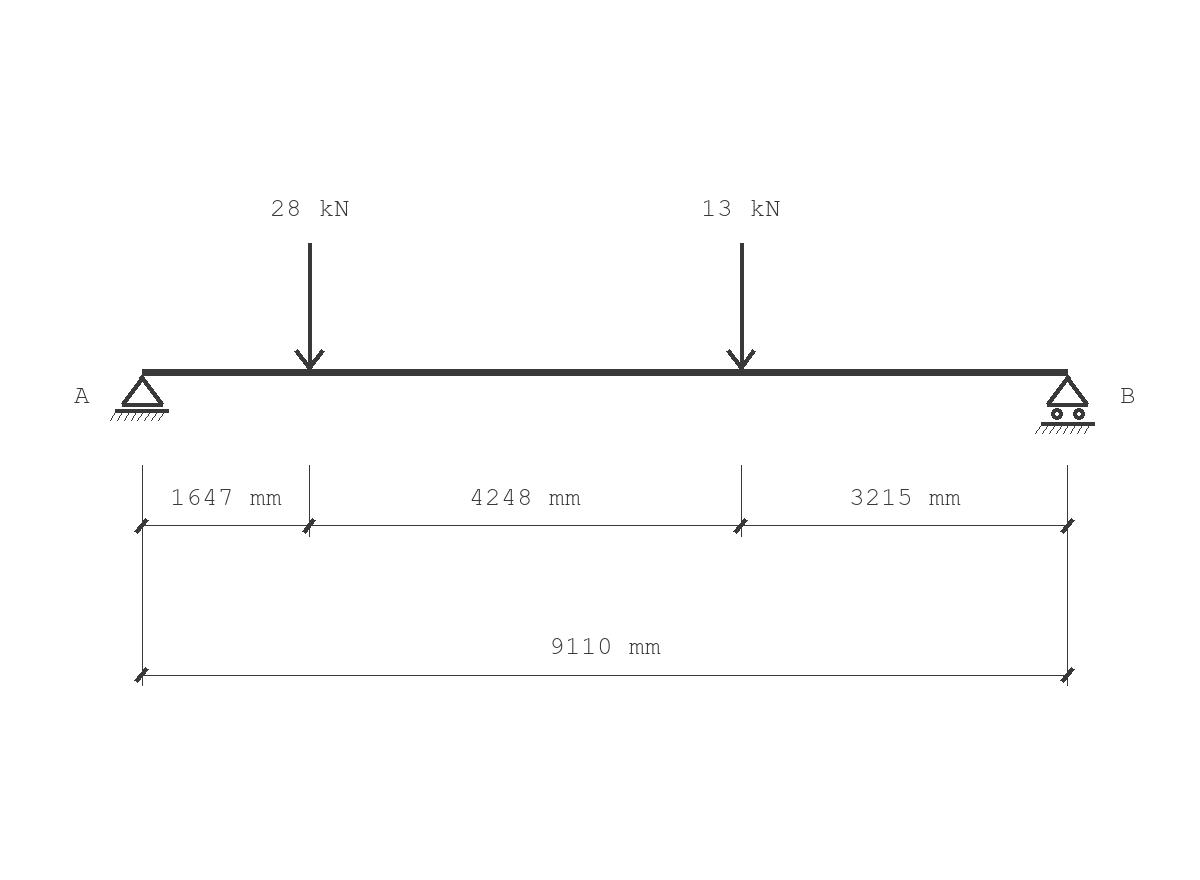pin_support: (110, 375, 169, 421)
point_load: (294, 243, 325, 370), (726, 243, 756, 370)
roller_support: (1035, 375, 1095, 434)
